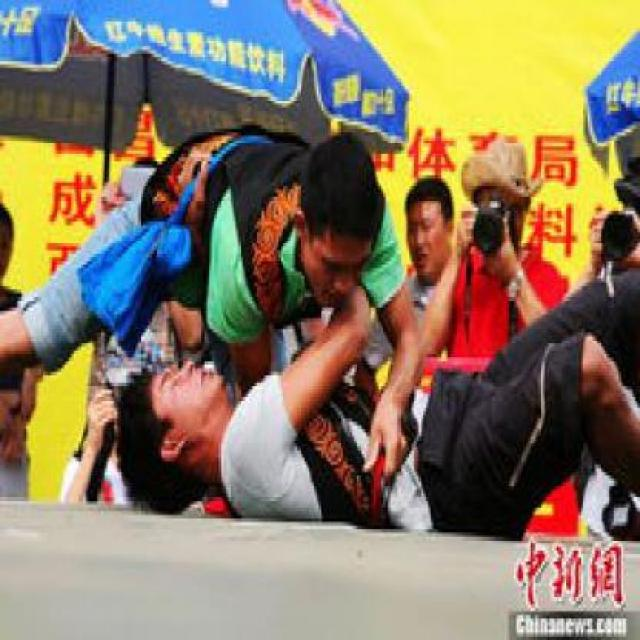fall: (80, 228, 638, 544)
